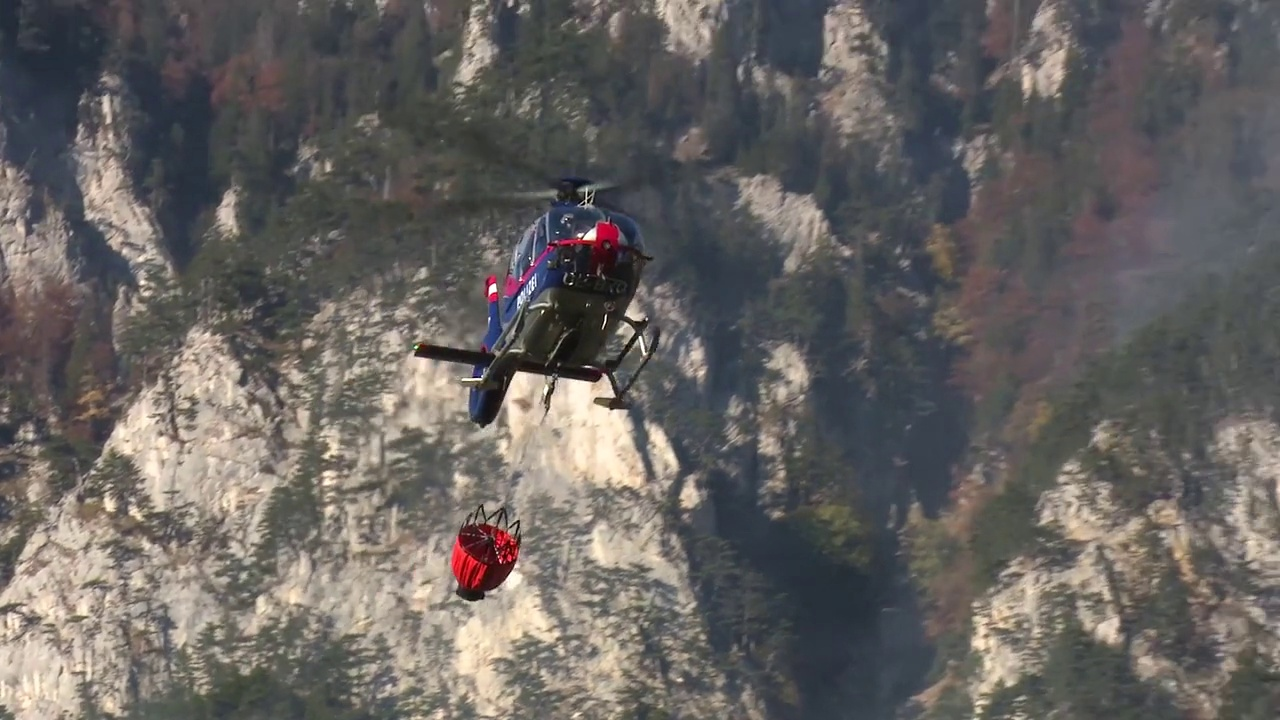heli: (415, 174, 660, 428)
